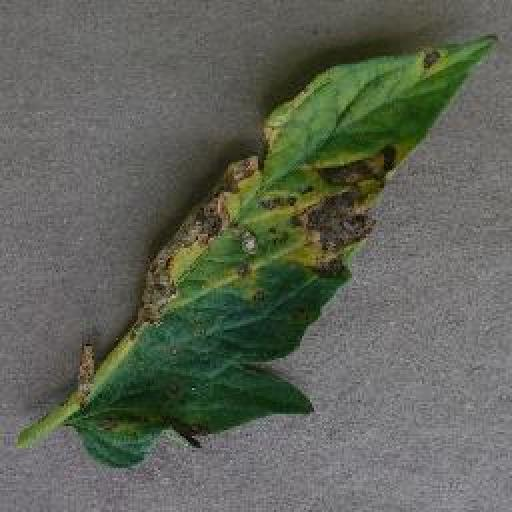Early Blight: (78, 33, 495, 476)
